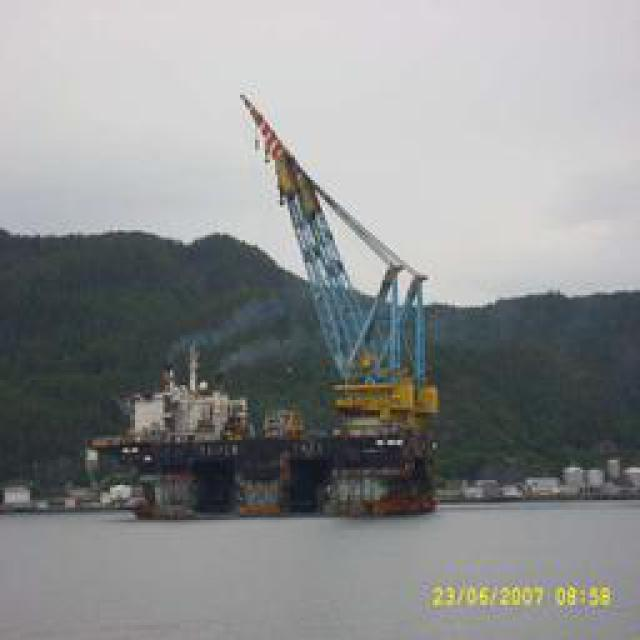Ship: (134, 92, 447, 522)
